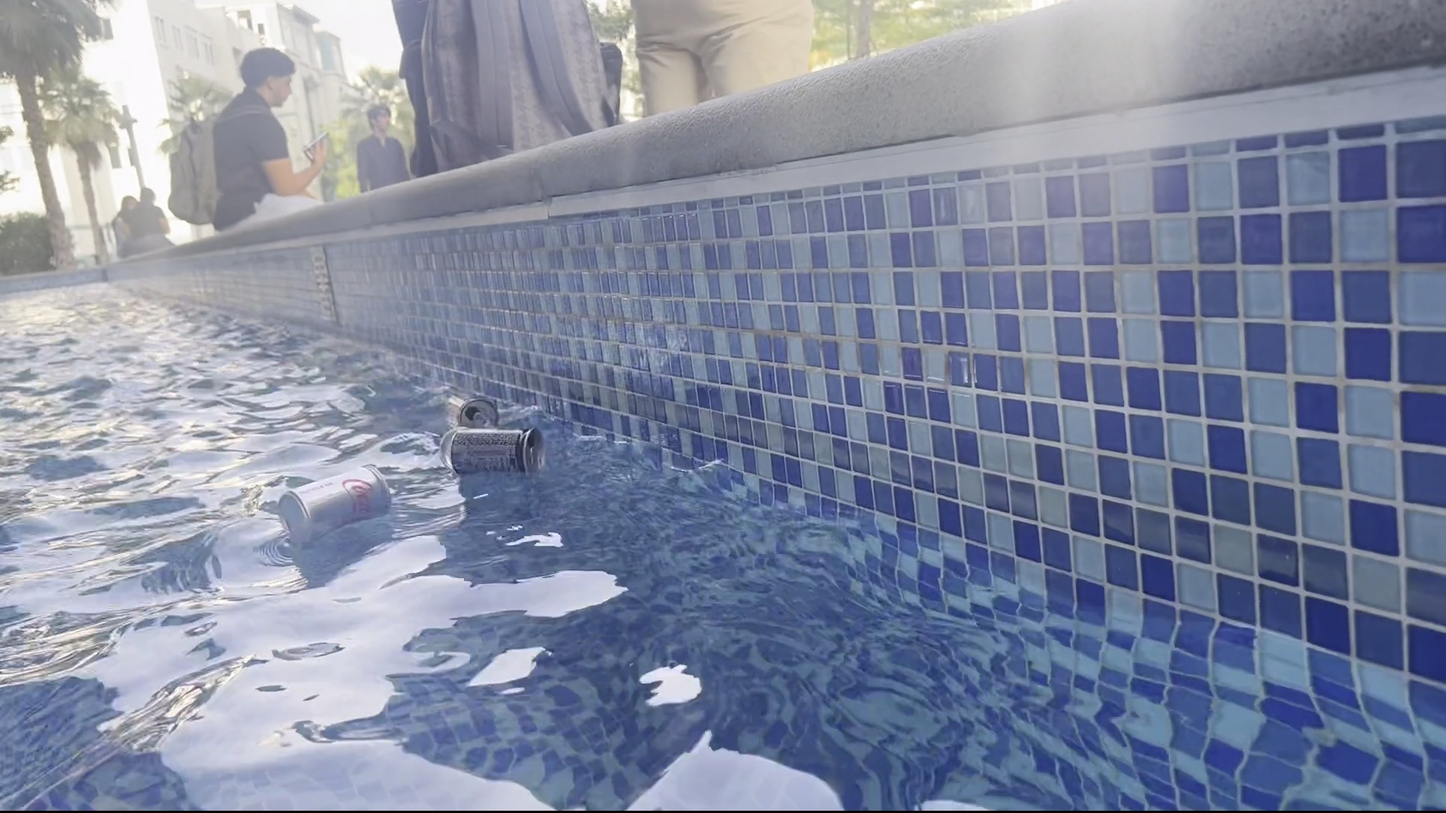debris: (273, 452, 394, 549), (436, 424, 554, 485), (432, 383, 505, 436), (431, 419, 484, 471)
